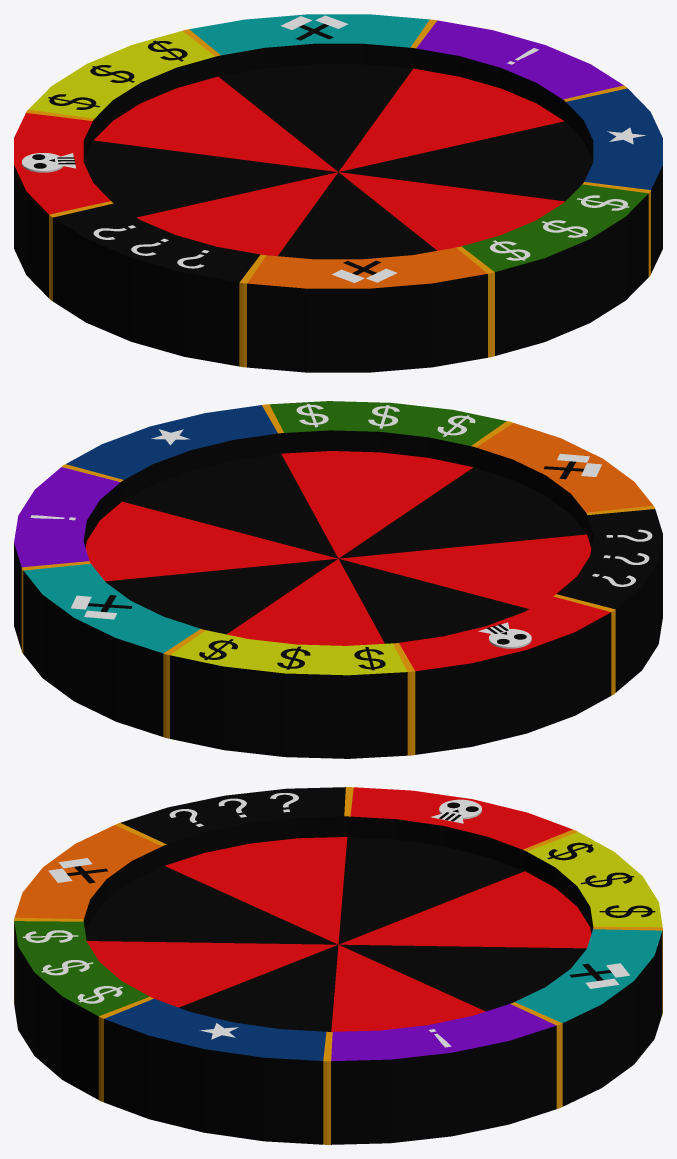
Rendered from FortuneWheelf2.fbx.
The picture shows the model from 3 angles, top to bottom: view 1: azimuth 30°, elevation 25°; view 2: azimuth 150°, elevation 25°; view 3: azimuth 270°, elevation 25°; orthographic projection.
Parts seen in each view (by area): view 1: Cylinder; view 2: Cylinder; view 3: Cylinder.
Boxes of the visible parts, x1,y1,x2,y2 form: Cylinder: (14, 14, 662, 372); Cylinder: (14, 401, 662, 758); Cylinder: (14, 787, 662, 1144).
Size of the model in its own units: 757 by 112 by 757.
